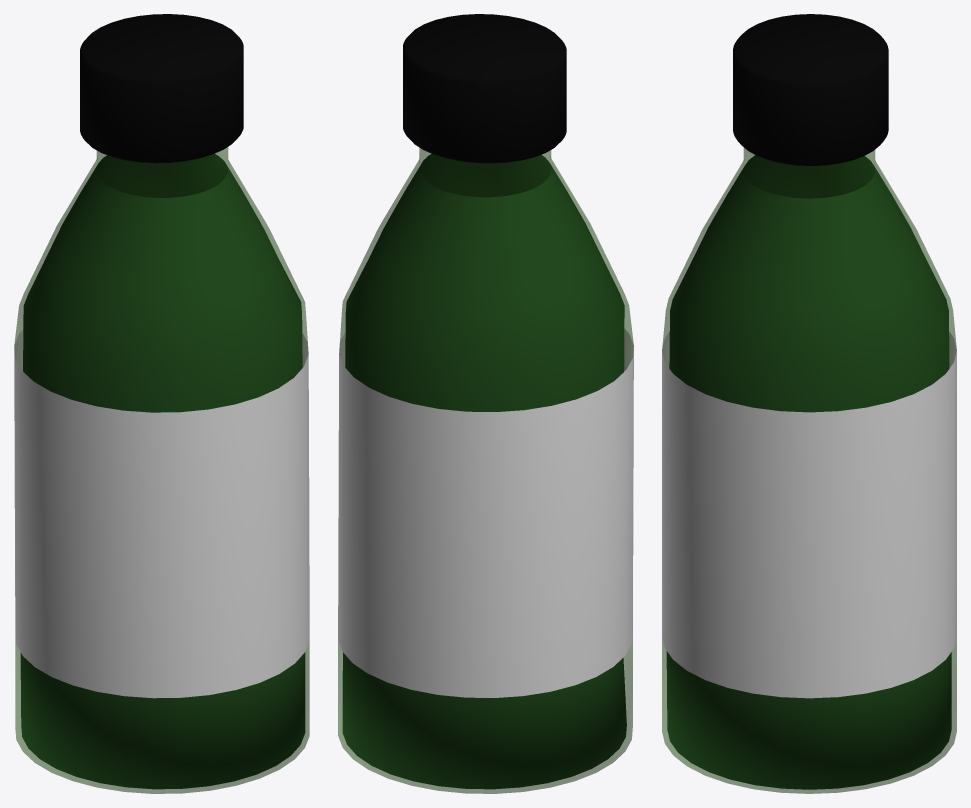
The model's file is smallHeal.glb.
The picture shows the model from 3 angles, left to right: view 1: azimuth 30°, elevation 25°; view 2: azimuth 150°, elevation 25°; view 3: azimuth 270°, elevation 25°; orthographic projection.
Parts seen in each view (by area): view 1: bottle, liquid, cap; view 2: bottle, liquid, cap; view 3: bottle, liquid, cap.
Boxes of the visible parts, x1,y1,x2,y2 form: bottle: (14, 147, 309, 793); liquid: (20, 153, 305, 789); cap: (80, 14, 243, 163); bottle: (338, 148, 633, 793); liquid: (342, 154, 626, 789); cap: (403, 14, 566, 163); bottle: (662, 148, 956, 793); liquid: (666, 155, 951, 789); cap: (733, 14, 888, 166).
Size of the model in its own units: 0.097 by 0.2474 by 0.0967.
